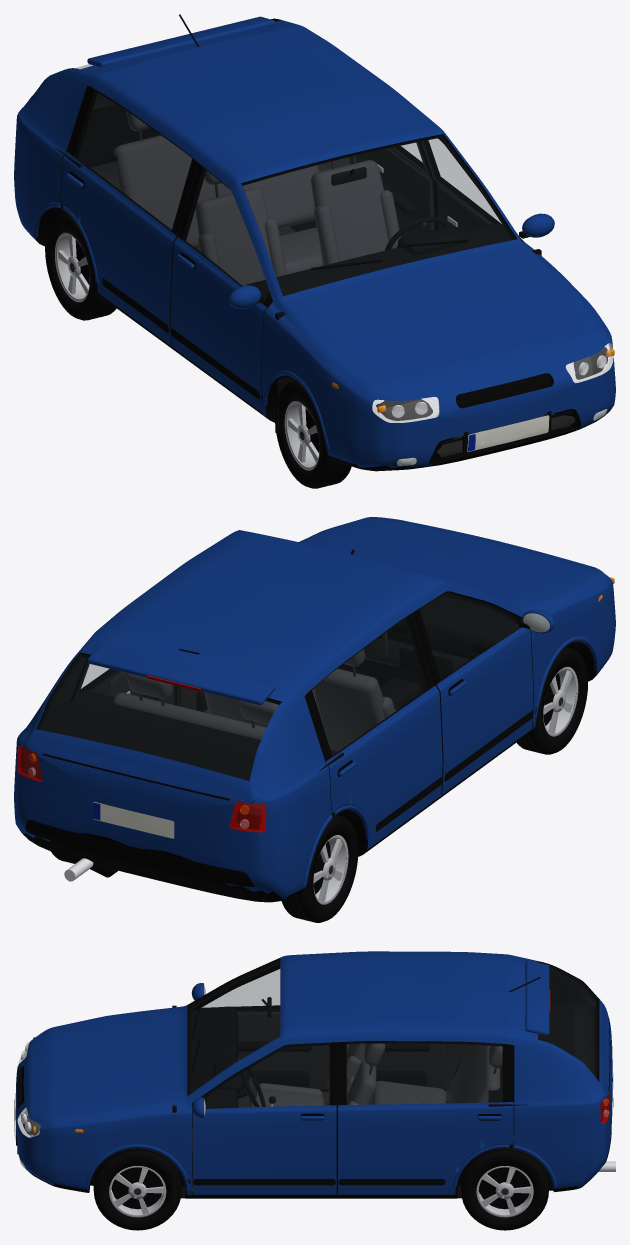
File: kleinwagen.glb
3 renders of one model, top to bottom at view 1: azimuth 30°, elevation 25°; view 2: azimuth 150°, elevation 25°; view 3: azimuth 270°, elevation 25°, orthographic. The views are drawn at different scales.
Visible parts, largest first — view 1: body, interior, door_rr, door_fr, details, wheel_fr, wheel_rr, decals, door_rl_details, door_fl_details, door_fl, door_fr_decals (+3 smaller); view 2: body, interior, door_rr, door_fr, decals, details, wheel_rr, wheel_fr, door_fr_decals, door_fr_details, seals, door_rl (+3 smaller); view 3: body, door_rl, door_fl, interior, wheel_rl, wheel_fl, door_fr_details, details, door_rr_details, seals, door_fl_decals, decals (+4 smaller).
Boxes of the visible parts, x1,y1,x2,y2 form: body: (14, 18, 615, 471); interior: (54, 104, 541, 434); door_rr: (60, 86, 198, 346); door_fr: (170, 163, 272, 412); details: (33, 14, 614, 459); wheel_fr: (275, 380, 351, 488); wheel_rr: (45, 212, 116, 320); decals: (261, 343, 613, 465); door_rl_details: (367, 148, 433, 237); door_fl_details: (438, 186, 554, 238); door_fl: (421, 140, 527, 244); door_fr_decals: (170, 252, 259, 399); body: (14, 517, 615, 902); interior: (40, 549, 541, 829); door_rr: (304, 612, 442, 849); door_fr: (413, 592, 533, 795); decals: (17, 578, 610, 886); details: (28, 563, 614, 885); wheel_rr: (281, 814, 358, 922); wheel_fr: (516, 646, 587, 754); door_fr_decals: (444, 679, 533, 781); door_fr_details: (449, 609, 554, 694); seals: (69, 592, 514, 711); door_rl: (74, 662, 121, 699); body: (15, 951, 612, 1198); door_rl: (337, 1042, 514, 1194); door_fl: (192, 1042, 336, 1194); interior: (172, 997, 574, 1203); wheel_rl: (461, 1148, 548, 1230); wheel_fl: (93, 1148, 181, 1230); door_fr_details: (191, 983, 329, 1090); details: (16, 960, 615, 1194); door_rr_details: (376, 1043, 445, 1089); seals: (191, 964, 514, 1191); door_fl_decals: (193, 1113, 335, 1185); decals: (14, 1018, 613, 1184).
Size of the model in its own units: 2.08 by 1.56 by 4.18.
